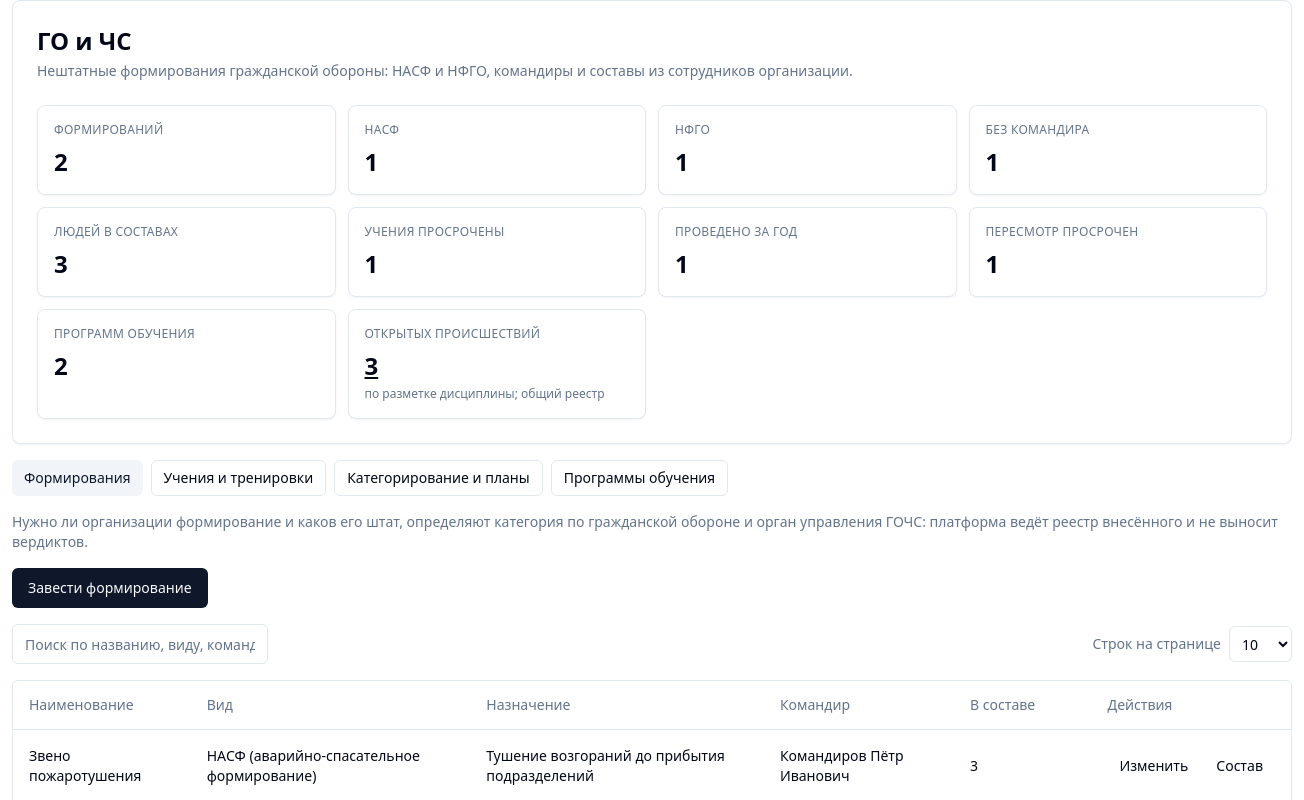
Scenario: CivilDefensePage › учения открываются второй секцией
This screenshot has width=1304, height=800.
Click the button "Учения и тренировки" at (238, 478), box x1=150 y1=460 x2=326 y2=496
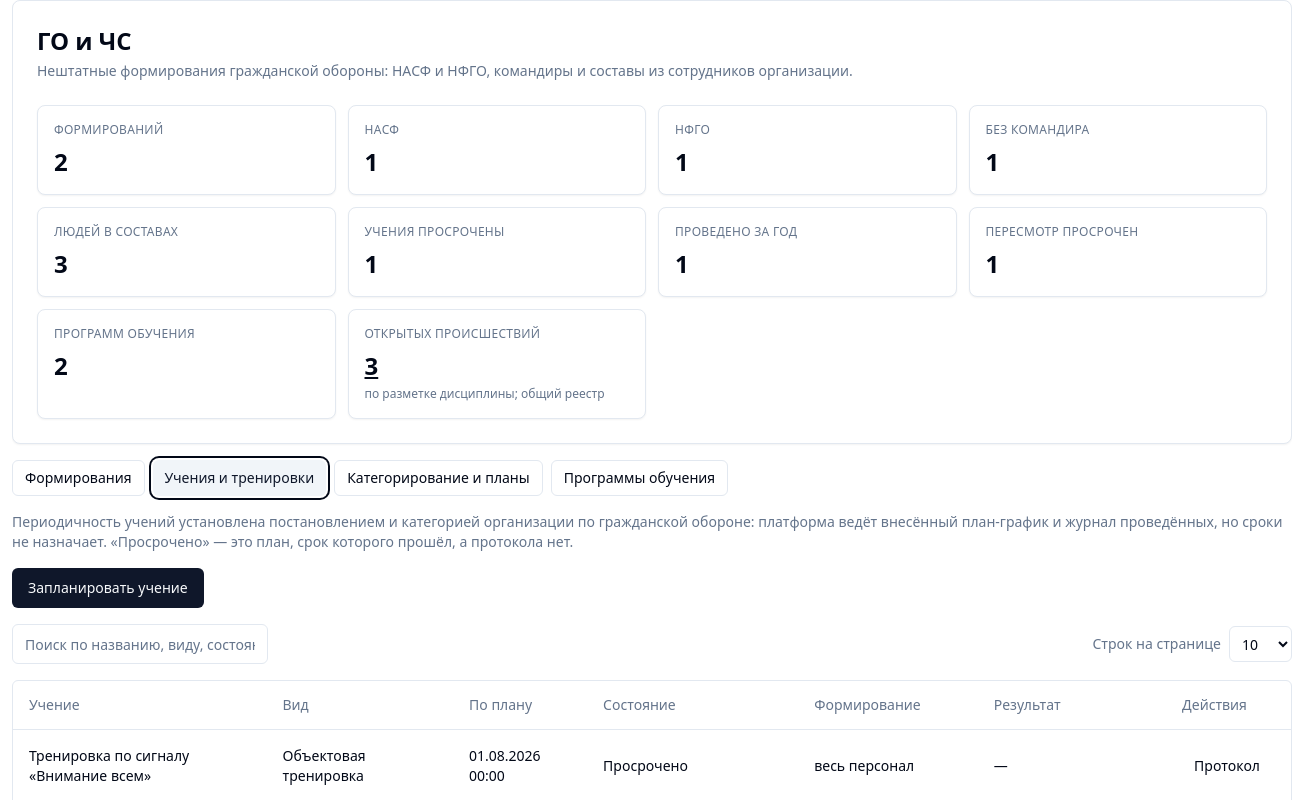
Expected: the text "Просрочено" is shown, x1=603 y1=756 x2=688 y2=774
Expected: the button "Протокол" is shown, x1=1182 y1=748 x2=1272 y2=784
Expected: the text "сроки не назначает" is shown, x1=12 y1=512 x2=1282 y2=551
